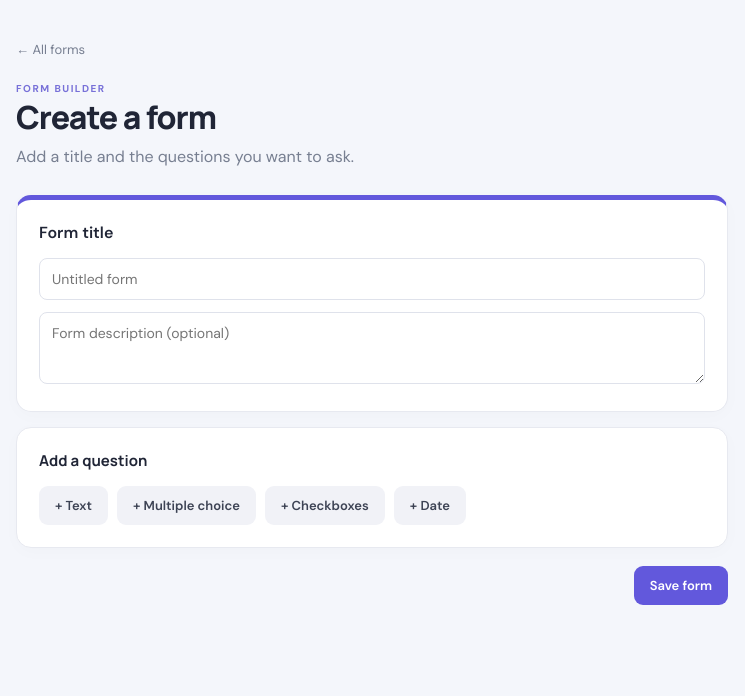
Test: BuilderPage › adds a question and shows validation beside the invalid field
In the field labelled "Form title": [372, 279] box [39,258,705,300], type "Weekend plans"
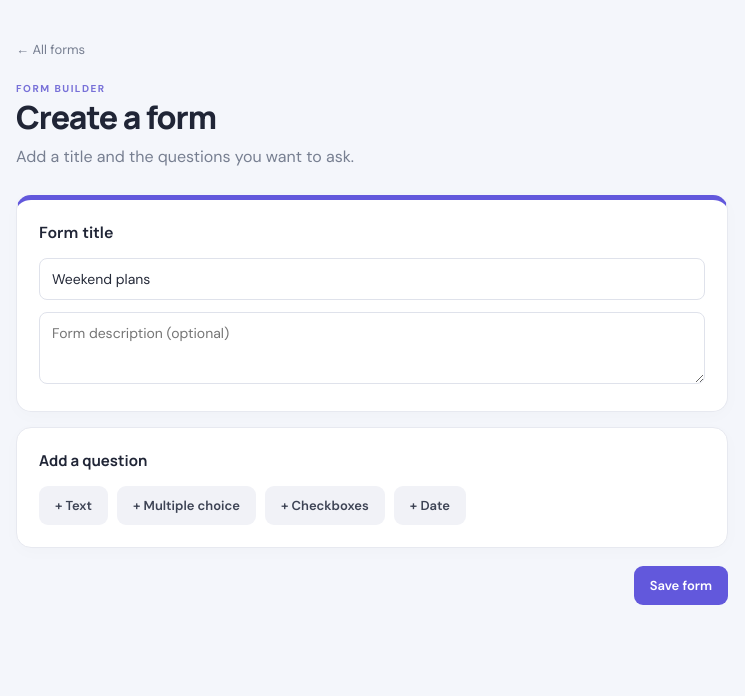
Click the button "+ Text": [74, 506] box [39,486,108,525]
(page scrolled)
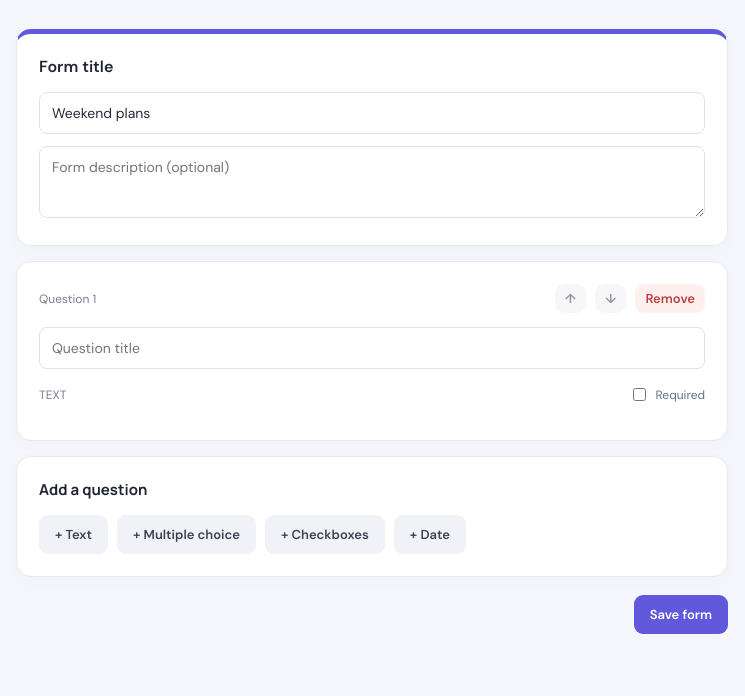
Click the button "Save form": [681, 614] box [634,595,728,634]
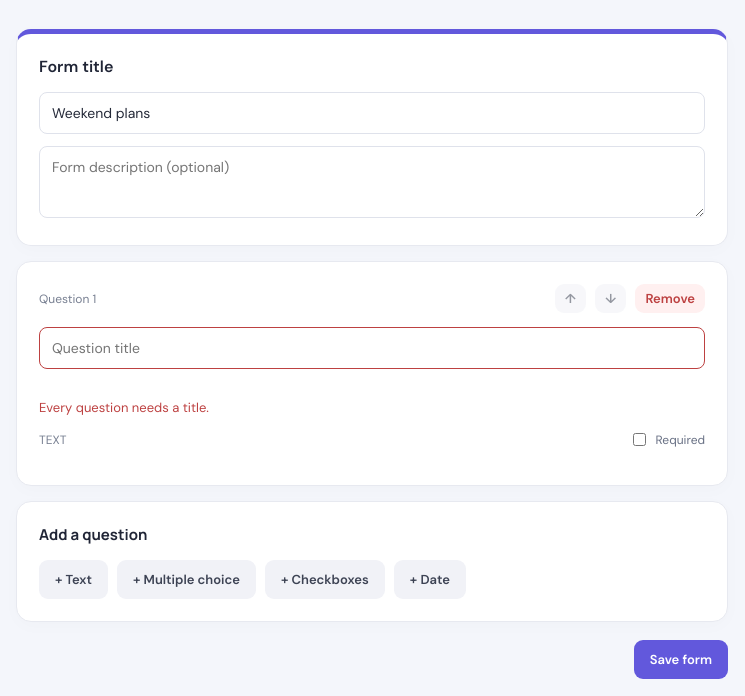
Expected: the message reads "Every question needs a title.", [39,399,209,416]
